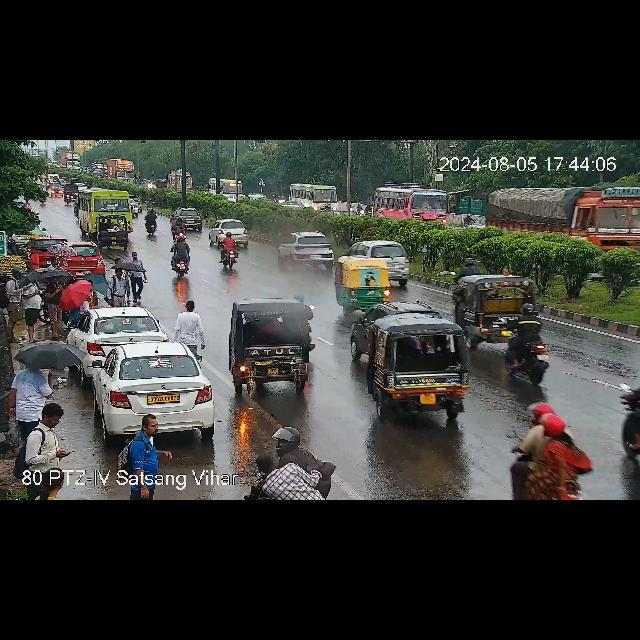bus: (488, 186, 640, 242), (374, 185, 448, 223), (78, 190, 130, 232), (290, 184, 338, 212), (206, 177, 244, 199)
car: (88, 342, 215, 438), (376, 322, 472, 423), (230, 298, 318, 396), (454, 272, 538, 336), (68, 305, 170, 357), (336, 256, 386, 308), (48, 242, 106, 276), (355, 306, 379, 369), (288, 232, 334, 260), (99, 216, 131, 248), (206, 219, 248, 243), (28, 236, 66, 262), (387, 242, 411, 282), (173, 207, 204, 231), (128, 198, 140, 216), (50, 182, 64, 196), (46, 172, 60, 182), (66, 185, 76, 195)
motorcycle: (512, 406, 580, 500), (253, 426, 335, 500), (505, 310, 549, 382), (170, 236, 190, 278), (220, 234, 238, 268), (143, 212, 157, 234), (63, 188, 73, 205)
person: (20, 403, 72, 499), (122, 415, 170, 499), (7, 365, 55, 445), (2, 268, 24, 346), (174, 302, 206, 352), (22, 276, 42, 344), (46, 274, 64, 340), (127, 254, 147, 302), (107, 268, 131, 308)
truck: (106, 159, 136, 183), (156, 170, 192, 190), (57, 154, 81, 170)
